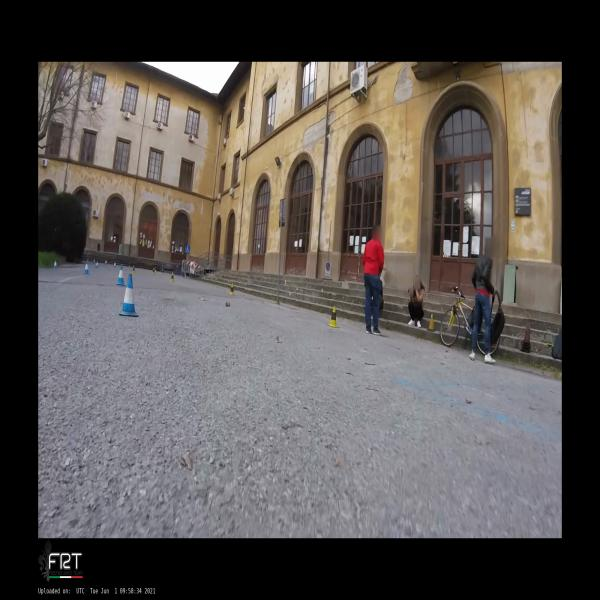blue_cone: (118, 274, 138, 317), (116, 265, 126, 286), (83, 262, 90, 274), (53, 260, 58, 269), (95, 261, 99, 268)
unknown_cone: (522, 324, 531, 345), (427, 313, 436, 332)
yellow_cone: (326, 305, 340, 328), (229, 282, 235, 296), (170, 271, 175, 283), (132, 265, 136, 274), (152, 267, 155, 275)
